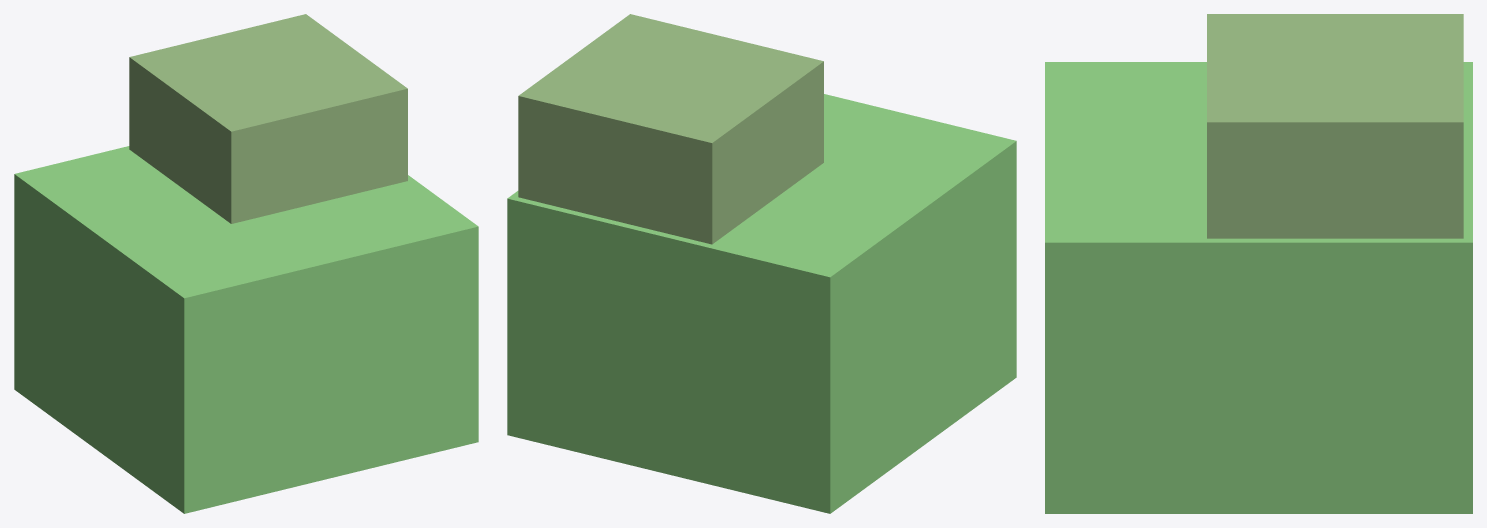
File: Prop_Dress_AMF_Bush_V22.glb
3 views of the same model, side by side, from view 1: azimuth 30°, elevation 25°; view 2: azimuth 150°, elevation 25°; view 3: azimuth 270°, elevation 25° (orthographic). The views are drawn at different scales.
Parts seen in each view (by area): view 1: Prop_Dress_AMF_Bush_V22; view 2: Prop_Dress_AMF_Bush_V22; view 3: Prop_Dress_AMF_Bush_V22.
Boxes of the visible parts, box(x1,y1,x2,y2) form: Prop_Dress_AMF_Bush_V22: box(14, 14, 478, 513); Prop_Dress_AMF_Bush_V22: box(507, 14, 1016, 513); Prop_Dress_AMF_Bush_V22: box(1045, 14, 1472, 513).
Size of the model in its own units: 0.5612 by 0.5612 by 0.5612.
